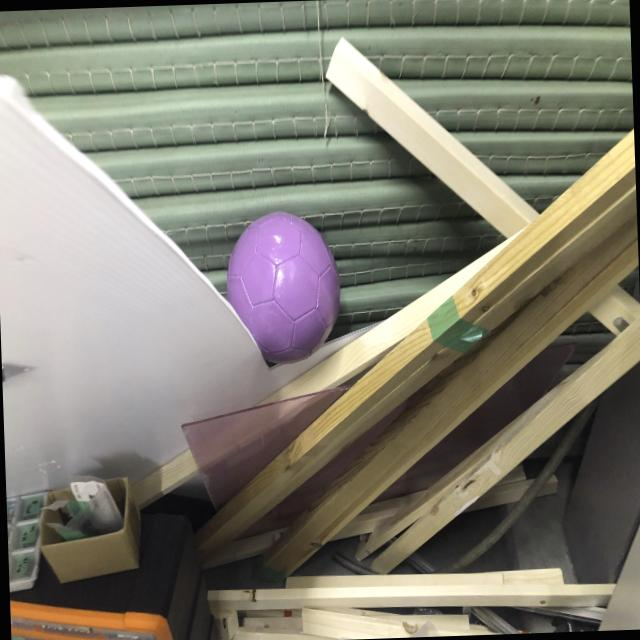purple_ball: (225, 207, 342, 368)
